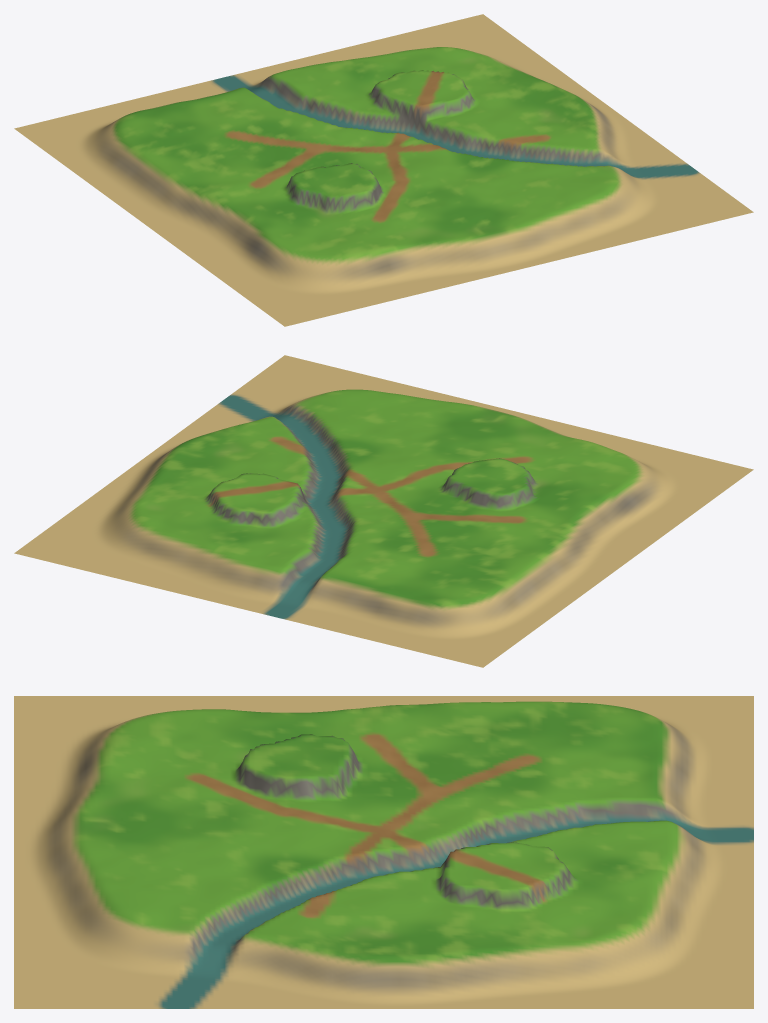
The model's file is island2.glb.
The picture shows the model from 3 angles, top to bottom: view 1: azimuth 30°, elevation 25°; view 2: azimuth 150°, elevation 25°; view 3: azimuth 270°, elevation 25°; orthographic projection. The views are drawn at different scales.
Parts seen in each view (by area): view 1: BR_Terrain; view 2: BR_Terrain; view 3: BR_Terrain.
Part boxes in pixels (<box>): BR_Terrain: <box>14,14,753,326</box>; BR_Terrain: <box>14,355,753,667</box>; BR_Terrain: <box>14,696,753,1008</box>.
Bounding box in the file's own units: 144 × 9.55 × 144.
